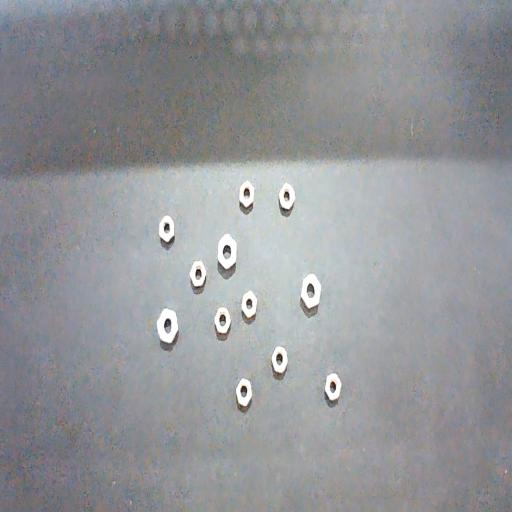nut: (156, 308, 179, 346), (300, 274, 322, 312), (217, 234, 237, 274), (324, 373, 342, 405), (278, 182, 295, 214), (238, 180, 254, 214), (214, 307, 231, 339), (235, 378, 252, 410), (189, 260, 207, 290), (241, 290, 257, 323), (159, 214, 175, 246), (272, 346, 288, 378)
